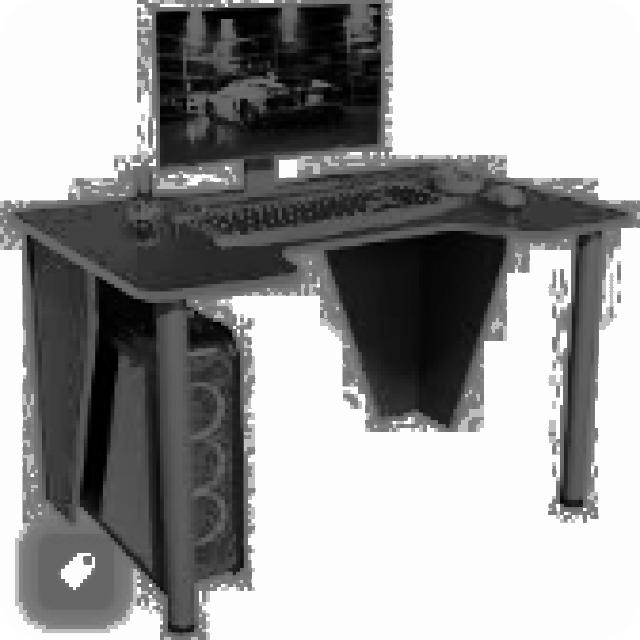table: (8, 159, 632, 632)
